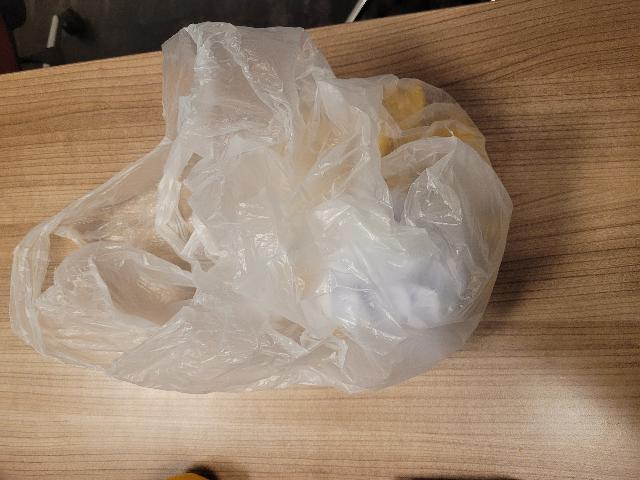Plastik: (13, 15, 523, 402)
